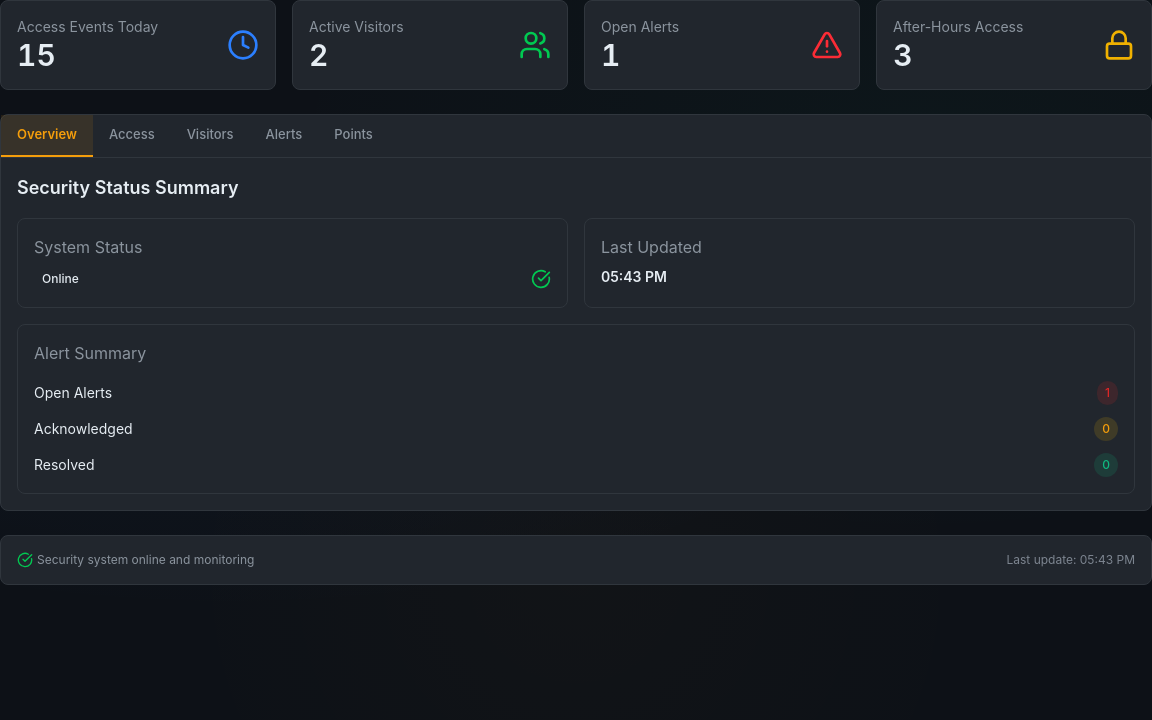
Test case: SecurityPanel › renders Access Points tab with point status
Click Access Points tab
What coordinates should you click on to do the following:
click the tab "Points"
I would click on:
 (354, 136)
Its box is [318,115,389,156].
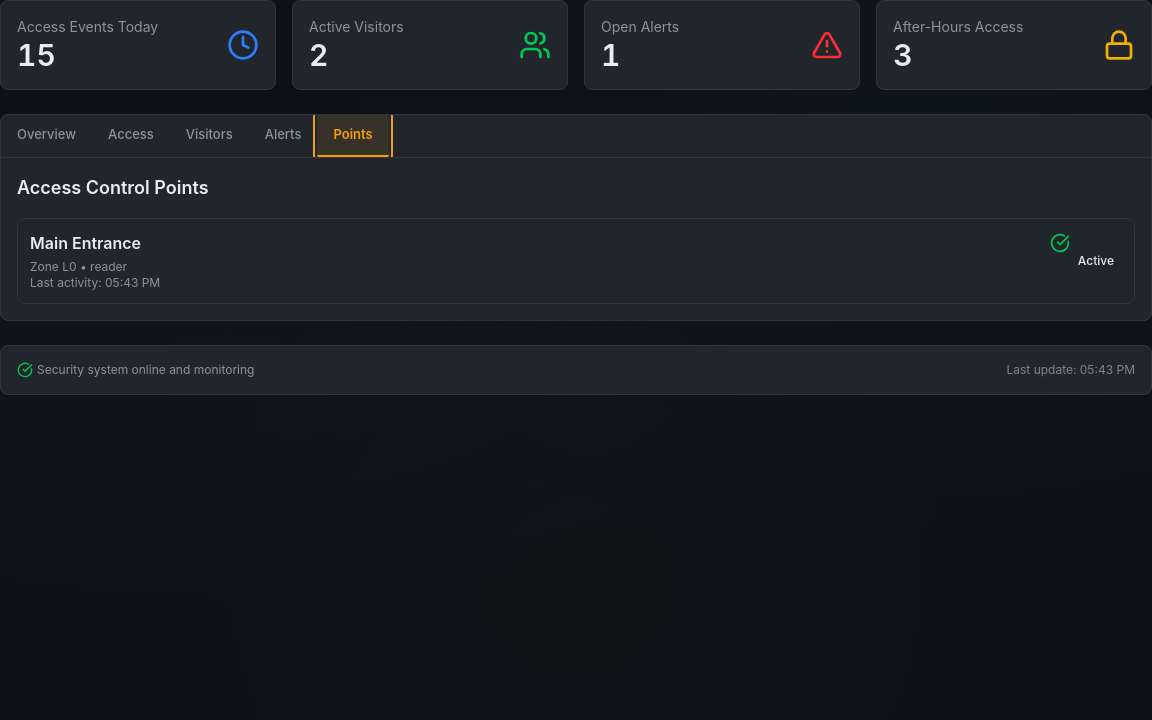
Expected: the text "Main Entrance" is shown, [30,230,141,254]
Expected: the text "active" is shown, [1078,252,1114,268]
